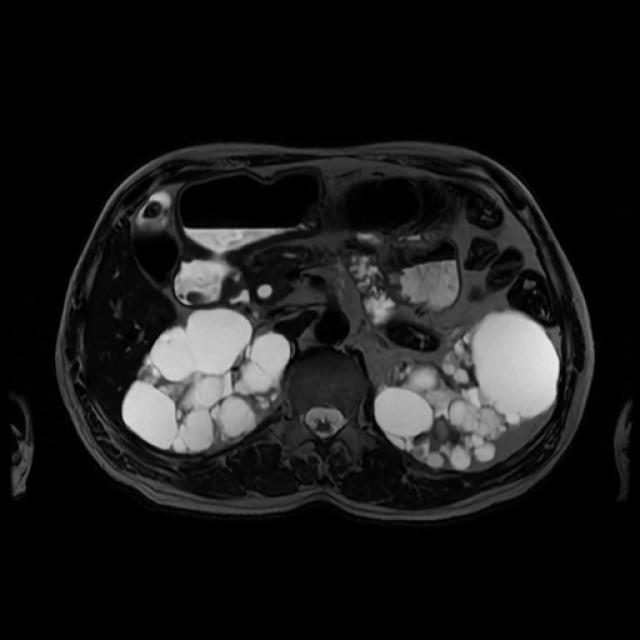sag: (120, 307, 292, 454)
sol: (374, 308, 562, 472)
